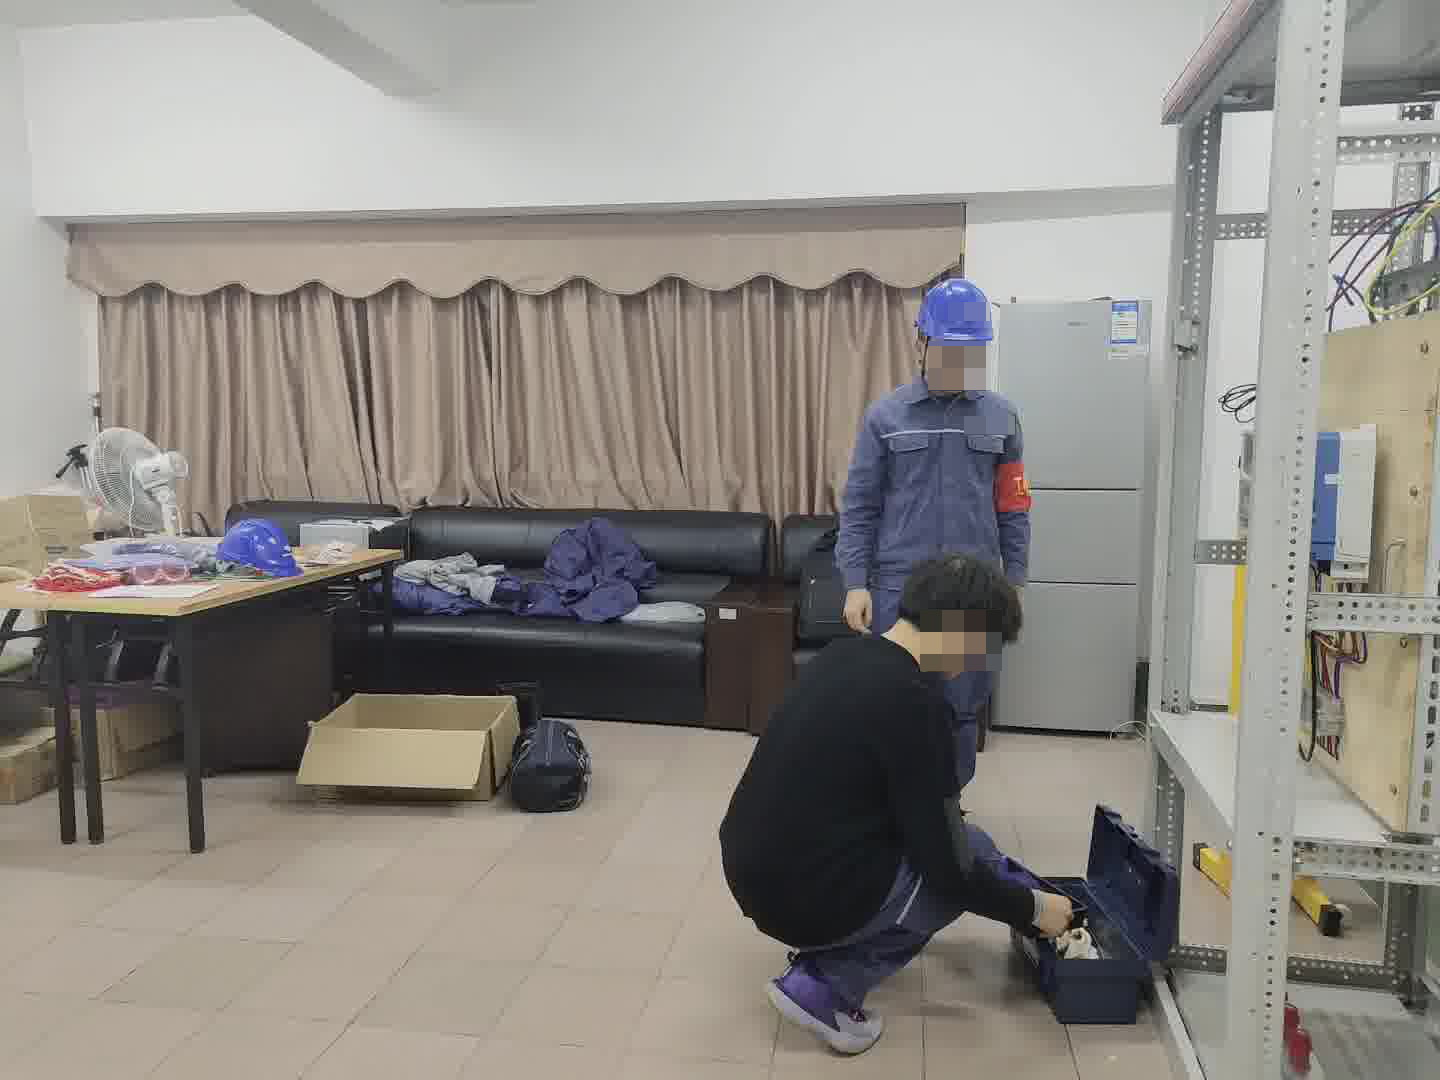badge: (996, 459, 1033, 516)
downsuit: (798, 838, 1013, 998)
halt: (908, 274, 1000, 389)
hand: (1027, 882, 1078, 940), (840, 588, 875, 635)
inear: (908, 329, 936, 371)
noear: (941, 609, 988, 651)
person: (707, 552, 1085, 1065), (838, 275, 1057, 828)
unhalt: (895, 555, 1027, 680)
upcloth: (717, 637, 1040, 932)
upsuit: (839, 378, 1034, 596)
